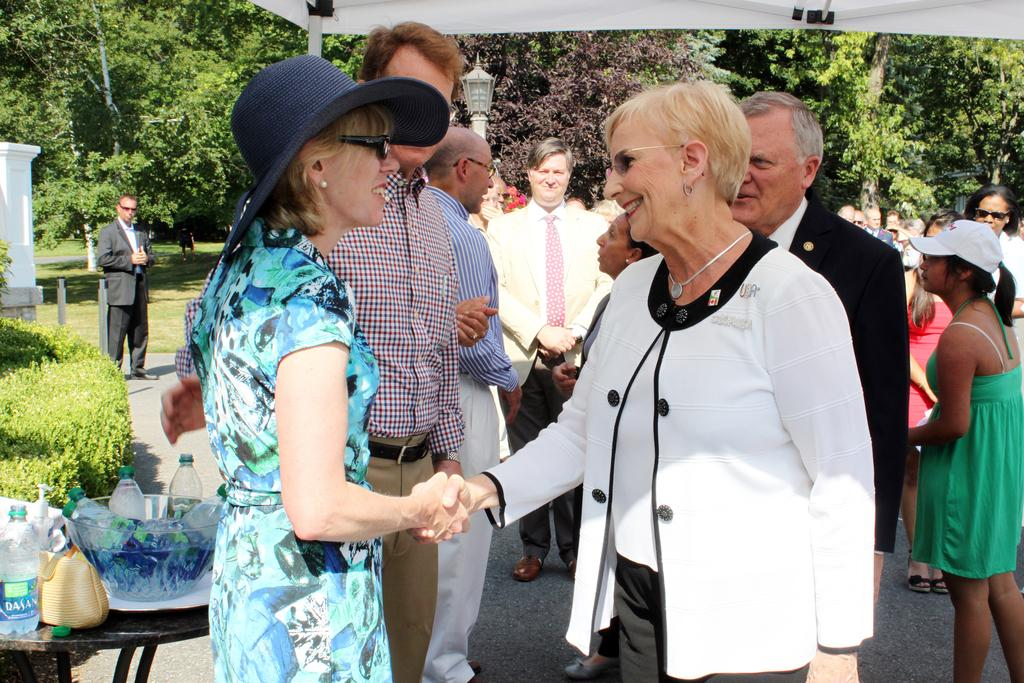Hat: (220, 54, 448, 256), (904, 217, 1005, 277)
